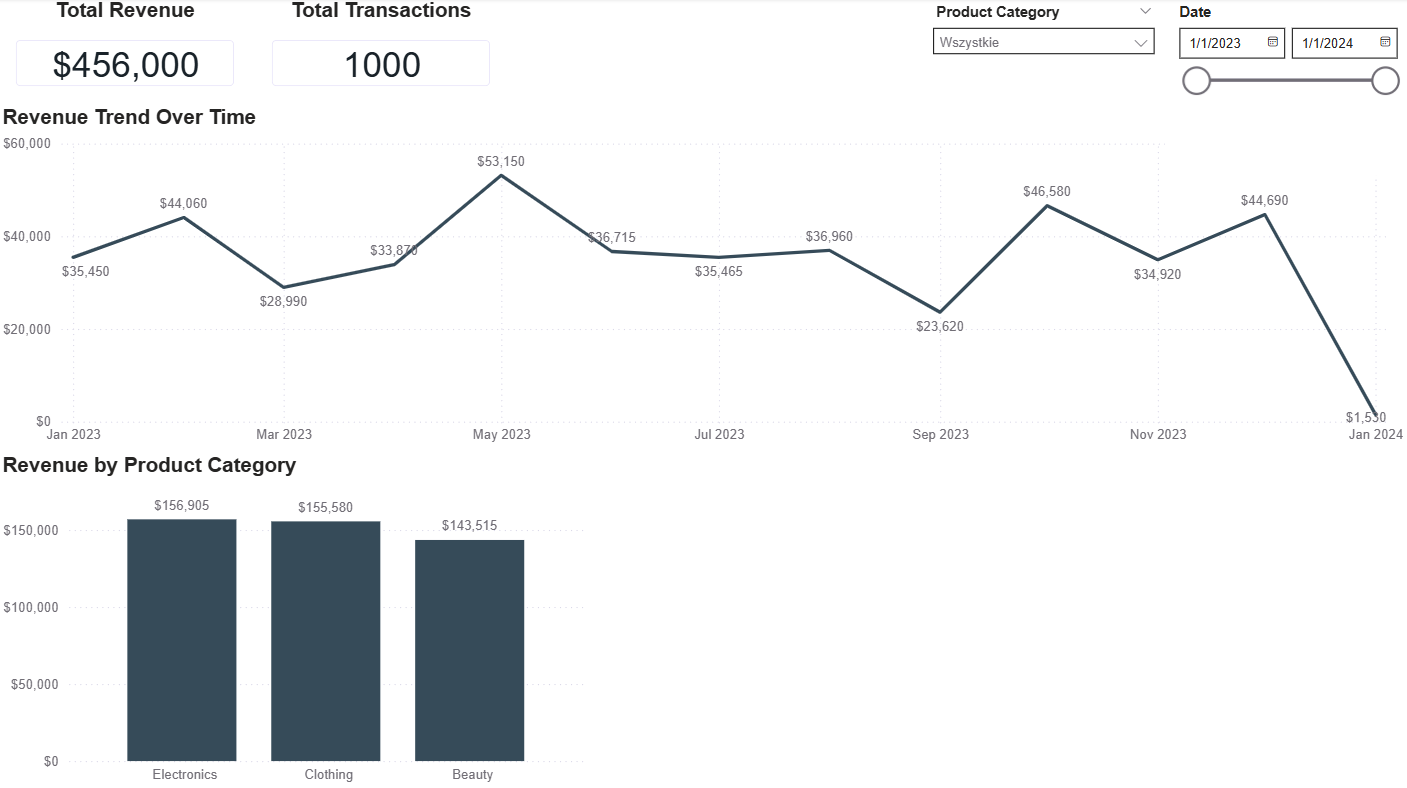

What the dashboard file says about the page in this screenshot:
{"tool":"powerbi","page":{"name":"Executive Sales Overview","canvas":[1280,720],"ordinal":0},"visuals":[{"type":"cardVisual","title":"Total Revenue","fields":{"Data":["Sum(retail_sales_dataset.Total Amount)"]},"box":[0,0,232.5,97.3],"z":0},{"type":"cardVisual","title":"Total Transactions","fields":{"Data":["CountNonNull(retail_sales_dataset.Transaction ID)"]},"box":[232.5,0,232.5,97.3],"z":1000},{"type":"lineChart","title":"Revenue Trend Over Time","fields":{"Category":["retail_sales_dataset.Date.Odmiana.Hierarchia dat.Rok","retail_sales_dataset.Date.Odmiana.Hierarchia dat.Miesiąc"],"Y":["Sum(retail_sales_dataset.Total Amount)"]},"box":[0,97.3,1280,315.1],"z":2000},{"type":"columnChart","title":"Revenue by Product Category","fields":{"Category":["retail_sales_dataset.Product Category"],"Y":["Sum(retail_sales_dataset.Total Amount)"]},"box":[0,412.4,540.8,307.4],"z":3000},{"type":"slicer","fields":{"Values":["retail_sales_dataset.Date"]},"box":[1059.2,0,220.8,160.5],"z":4000},{"type":"slicer","fields":{"Values":["retail_sales_dataset.Product Category"]},"box":[838.4,0,220.8,57.4],"z":5000}]}

Visuals, with their boxes in screenshot pixels (x1, y1, x2, y2), scaled from the page's 1280x720 canvas onto the 1407x788 screenshot:
"Total Revenue" cardVisual: crop(0, 0, 256, 106)
"Total Transactions" cardVisual: crop(256, 0, 511, 106)
"Revenue Trend Over Time" lineChart: crop(0, 106, 1406, 451)
"Revenue by Product Category" columnChart: crop(0, 451, 594, 787)
slicer - retail_sales_dataset.Date: crop(1164, 0, 1406, 176)
slicer - retail_sales_dataset.Product Category: crop(922, 0, 1164, 63)
